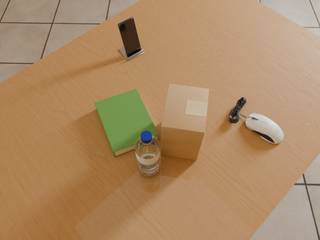book: (95, 89, 159, 157)
bottle: (135, 130, 160, 177)
box: (161, 84, 209, 160)
mouse: (245, 113, 284, 144)
phone: (118, 17, 141, 57)
